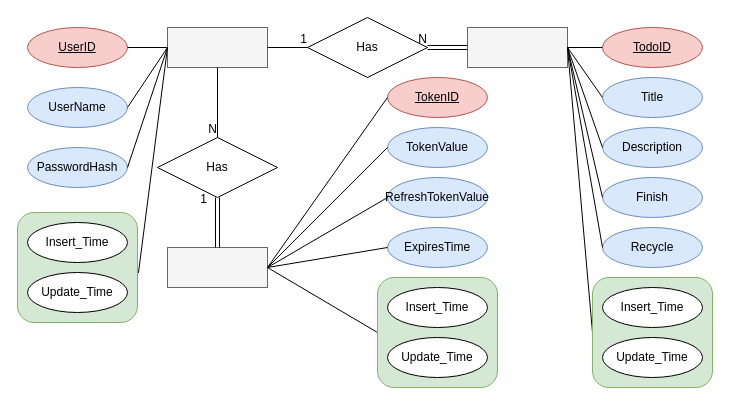
Some shapes in this 730 by 405 pixel diagram are drawn without their labels. The shapes that lost their labels are listed below. From the top down, each one's centre as x and y in pixels, then its label:
At pixel 217 47: "UserInfo".
At pixel 517 47: "ToDo".
At pixel 217 267: "Token".
